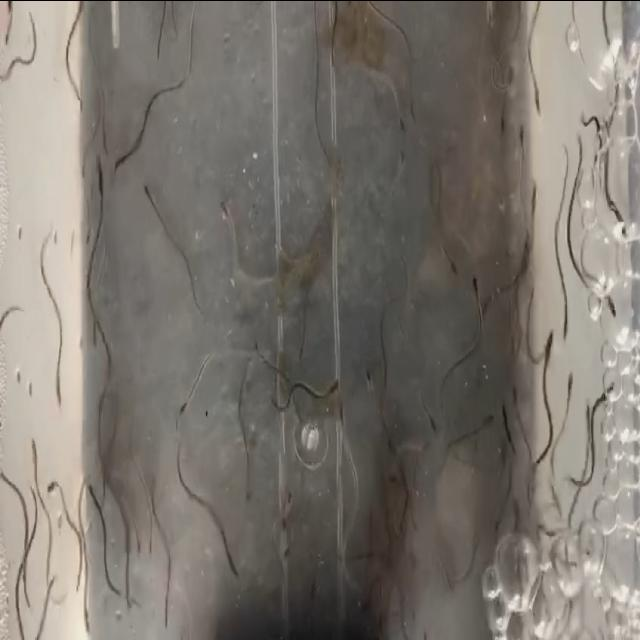active_glass_eel: (332, 488, 357, 538), (220, 542, 244, 590), (434, 528, 456, 574), (544, 390, 563, 440), (554, 210, 576, 253), (128, 82, 148, 129), (480, 400, 500, 442), (582, 272, 598, 324), (162, 594, 180, 640), (74, 144, 94, 184), (456, 548, 476, 588), (280, 483, 296, 531), (394, 98, 412, 140), (66, 82, 88, 115), (467, 272, 485, 312), (86, 474, 101, 521), (360, 351, 380, 386), (512, 119, 532, 153), (46, 168, 68, 198), (530, 82, 548, 118), (218, 190, 234, 230), (132, 178, 150, 212), (174, 392, 192, 426), (1, 18, 20, 50), (84, 328, 97, 372), (391, 142, 410, 172), (316, 540, 331, 578), (294, 327, 310, 362), (327, 370, 343, 405), (523, 406, 537, 446), (564, 486, 580, 520), (54, 358, 64, 412), (498, 62, 516, 90), (280, 538, 297, 566), (95, 166, 108, 202), (446, 248, 461, 278), (429, 406, 443, 437), (540, 360, 554, 391), (18, 610, 32, 640), (514, 264, 528, 294), (46, 478, 62, 504), (428, 156, 444, 182), (512, 284, 524, 318), (243, 478, 257, 506), (48, 559, 61, 589), (0, 447, 15, 473), (82, 220, 94, 252), (22, 585, 38, 608), (376, 388, 388, 418)
